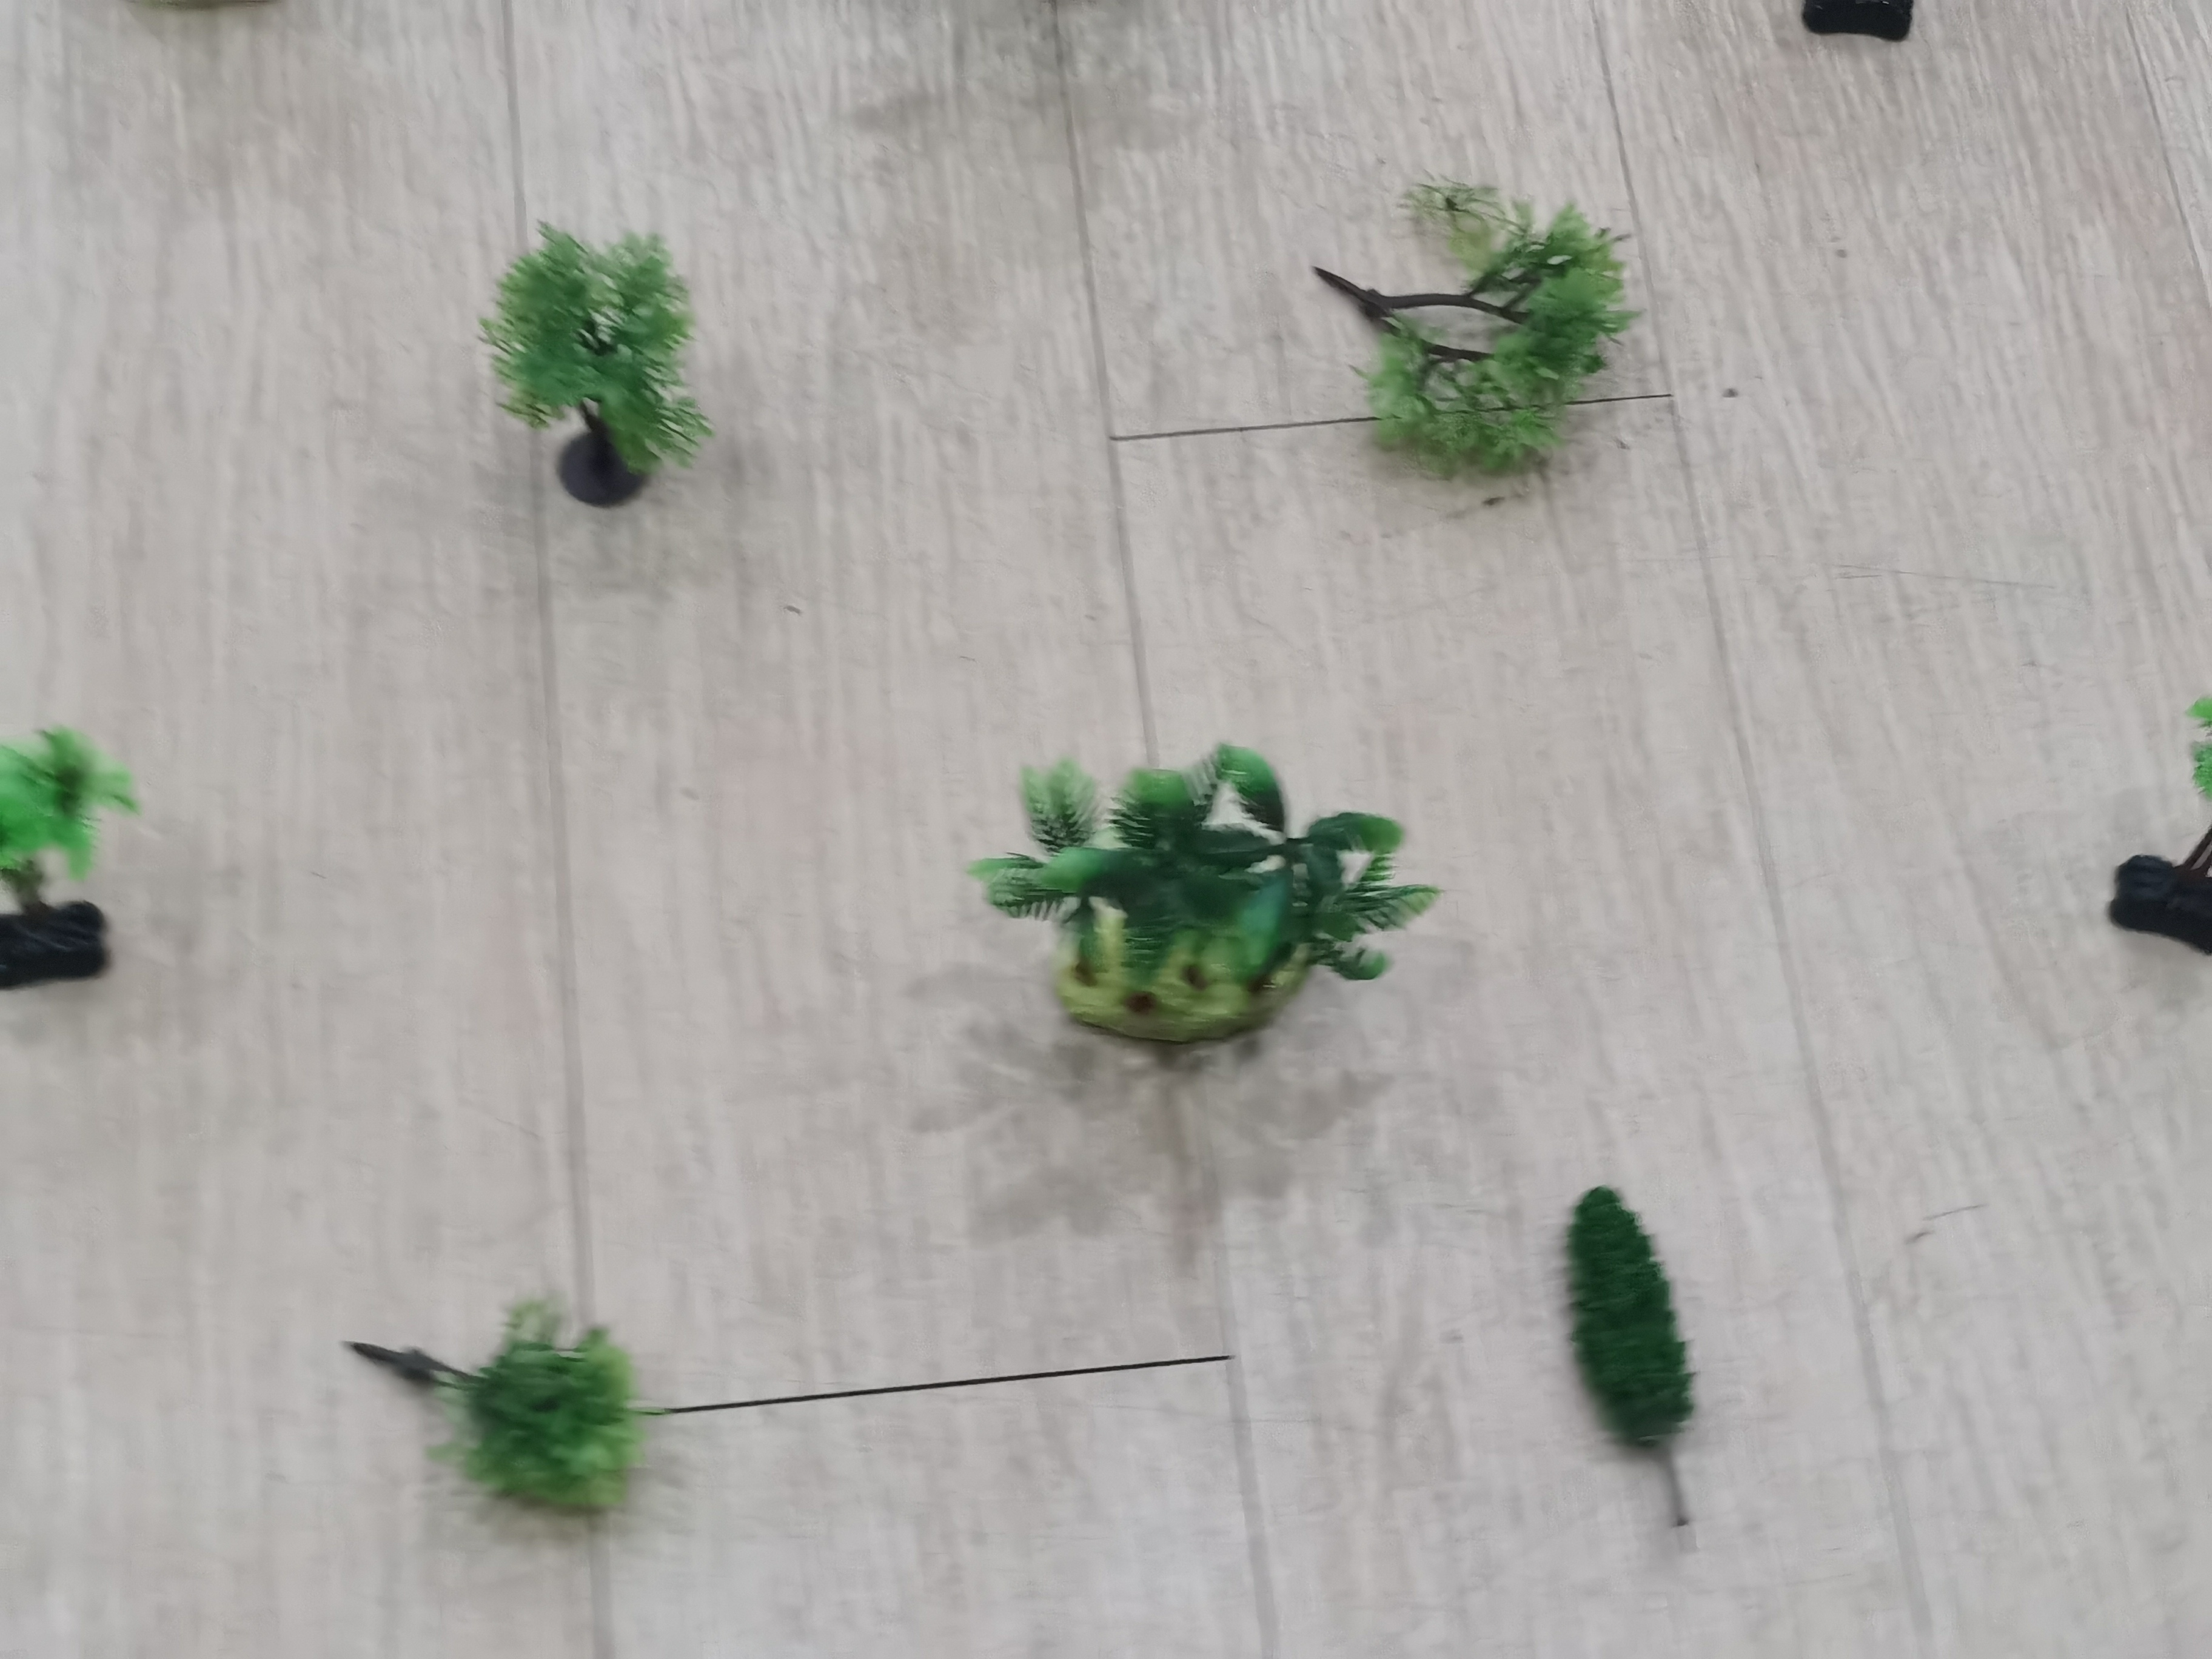corn: (982, 730, 1444, 1044)
